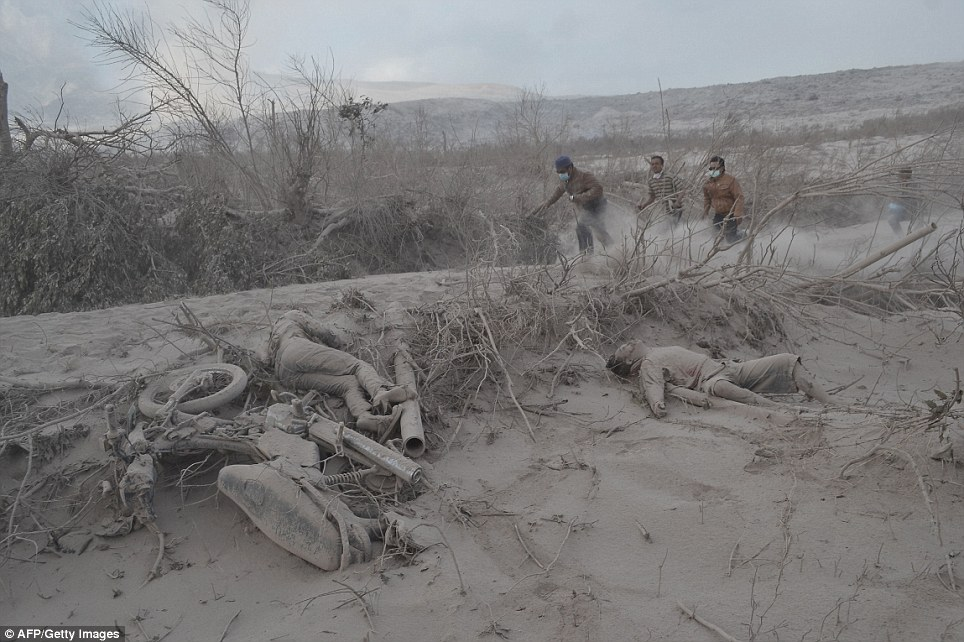BukanKorban: (537, 156, 615, 258), (699, 155, 752, 246), (634, 156, 686, 231)
Korban: (606, 338, 843, 419), (268, 309, 417, 432)
